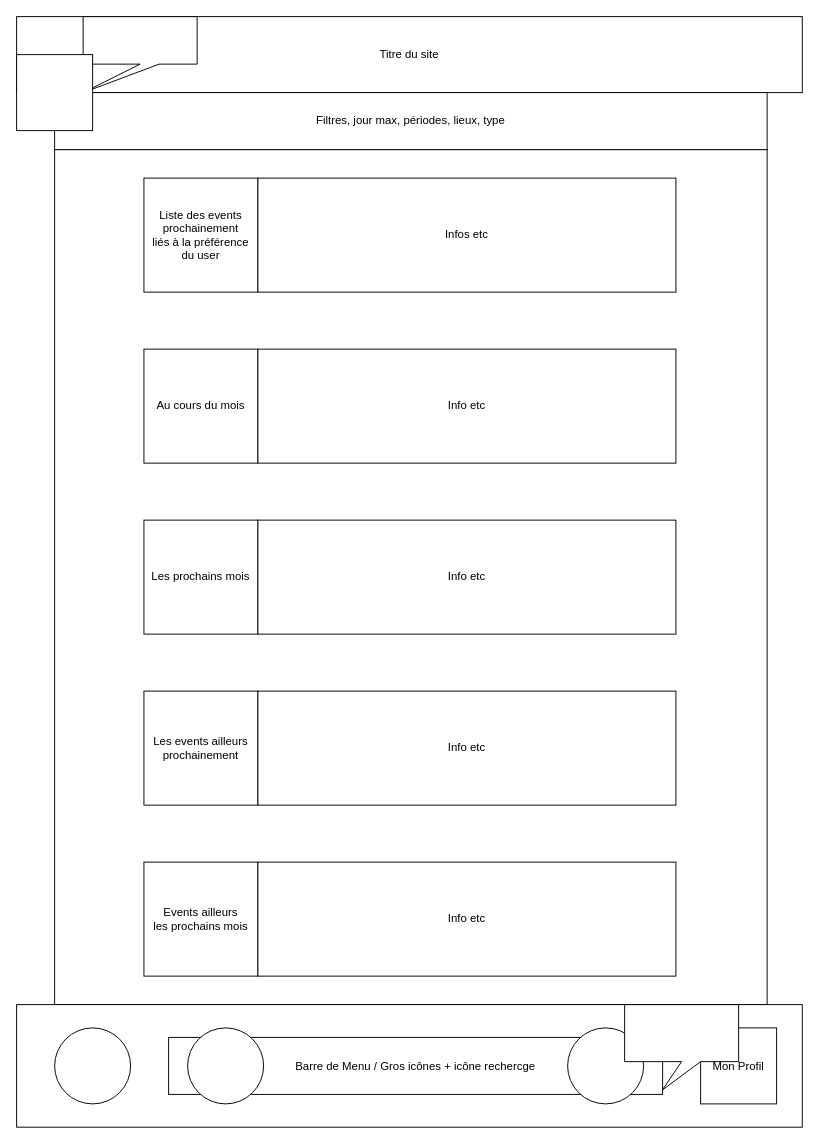
Image size: 819x1144. Some labels were removed from this diagram. The shapes that lost their labels are listed below. From the top down, each one's centre as x and y in pixels, then its label:
(139,54): Logo toujours apparent
(54,92): Logo de la page EVENTS
(92,1065): Logo
(681,1047): Barre toujours apparente
